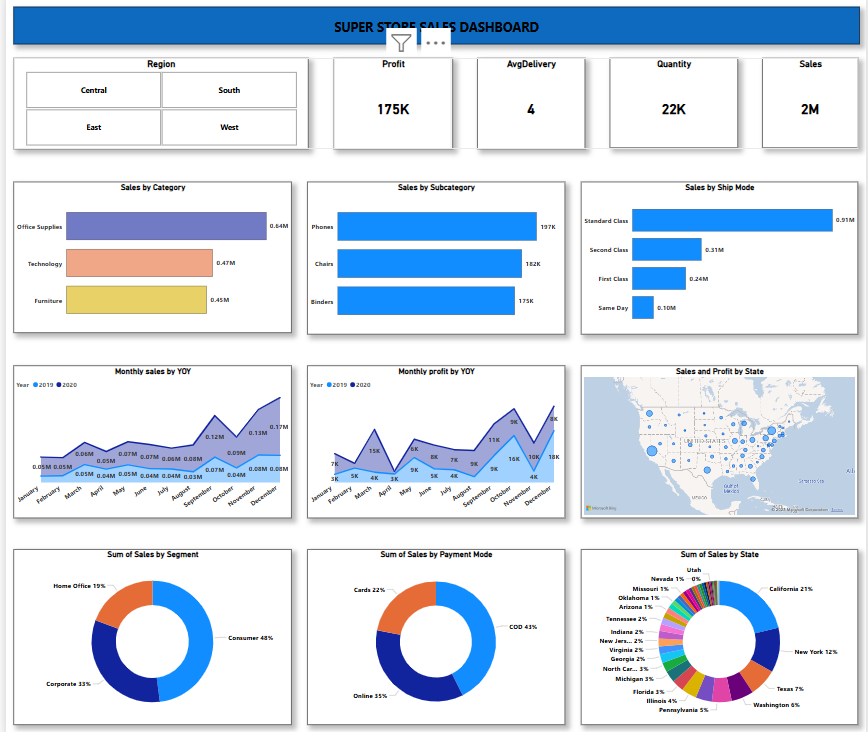

The page's visual inventory and layout, read from the dashboard file:
{"tool":"powerbi","page":{"name":"Sales Insights","canvas":[1800,1560],"ordinal":0},"visuals":[{"type":"textbox","box":[15.2,28.8,1769.6,78.4],"z":0},{"type":"clusteredBarChart","title":"Sales by Category","fields":{"Category":["SuperStore_Sales_Dataset.Category"],"Y":["Sum(SuperStore_Sales_Dataset.Sales)"]},"box":[16.1,394.1,581.8,316.4],"z":0,"group":"g2"},{"type":"group","id":"g1","title":"Group 1","box":[16.8,136.7,1766.3,191.1],"z":1000},{"type":"clusteredBarChart","title":"Sales by Subcategory","fields":{"Y":["Sum(SuperStore_Sales_Dataset.Sales)"],"Category":["SuperStore_Sales_Dataset.Sub-Category"]},"box":[631.4,394.1,538.9,319],"z":1000,"group":"g2"},{"type":"group","id":"g2","title":"Group 2","box":[16.1,394.1,1766.8,319],"z":2000},{"type":"clusteredBarChart","title":"Sales by Ship Mode","fields":{"Y":["Sum(SuperStore_Sales_Dataset.Sales)"],"Category":["SuperStore_Sales_Dataset.Ship Mode"]},"box":[1203.8,394.1,579.1,319],"z":2000,"group":"g2"},{"type":"group","id":"g3","title":"Group 3","box":[16.1,780.2,1766.8,319],"z":3000},{"type":"stackedAreaChart","title":"Monthly sales by YOY","fields":{"Category":["SuperStore_Sales_Dataset.Order Date.Variation.Date Hierarchy.Month","SuperStore_Sales_Dataset.Order Date.Variation.Date Hierarchy.Day"],"Y":["Sum(SuperStore_Sales_Dataset.Sales)"],"Series":["SuperStore_Sales_Dataset.Order Date.Variation.Date Hierarchy.Year"]},"box":[16.1,780.2,581.8,319],"z":3000,"group":"g3"},{"type":"stackedAreaChart","title":"Monthly profit by YOY","fields":{"Category":["SuperStore_Sales_Dataset.Order Date.Variation.Date Hierarchy.Month","SuperStore_Sales_Dataset.Order Date.Variation.Date Hierarchy.Day"],"Series":["SuperStore_Sales_Dataset.Order Date.Variation.Date Hierarchy.Year"],"Y":["Sum(SuperStore_Sales_Dataset.Profit)"]},"box":[631.4,780.2,538.9,319],"z":4000,"group":"g3"},{"type":"group","id":"g4","title":"Group 4","box":[16.1,1163.5,1766.8,367.3],"z":4000},{"type":"map","title":"Sales and Profit by State","fields":{"Category":["SuperStore_Sales_Dataset.State"],"Size":["Sum(SuperStore_Sales_Dataset.Sales)"]},"box":[1203.8,780.2,579.1,319],"z":5000,"group":"g3"},{"type":"donutChart","fields":{"Category":["SuperStore_Sales_Dataset.Segment"],"Y":["Sum(SuperStore_Sales_Dataset.Sales)"]},"box":[16.1,1163.5,581.8,367.3],"z":6000,"group":"g4"},{"type":"donutChart","fields":{"Y":["Sum(SuperStore_Sales_Dataset.Sales)"],"Category":["SuperStore_Sales_Dataset.Payment Mode"]},"box":[631.4,1163.5,538.9,367.3],"z":7000,"group":"g4"},{"type":"slicer","title":"Region","fields":{"Values":["SuperStore_Sales_Dataset.Region"]},"box":[16.8,136.7,616.6,190.3],"z":8000,"group":"g1"},{"type":"card","title":"Sales","fields":{"Values":["Sum(SuperStore_Sales_Dataset.Sales)"]},"box":[1582,137.4,201.1,187.7],"z":10000,"group":"g1"},{"type":"card","title":"Quantity","fields":{"Values":["Sum(SuperStore_Sales_Dataset.Quantity)"]},"box":[1263,137.4,268.1,187.7],"z":11000,"group":"g1"},{"type":"card","title":"Profit","fields":{"Values":["Sum(SuperStore_Sales_Dataset.Profit)"]},"box":[685.7,136.7,249.3,190.3],"z":12000,"group":"g1"},{"type":"card","title":"AvgDelivery","fields":{"Values":["Avg(SuperStore_Sales_Dataset.AvgDelivery)"]},"box":[986.9,137.4,225.2,190.3],"z":13000,"group":"g1"},{"type":"donutChart","fields":{"Y":["Sum(SuperStore_Sales_Dataset.Sales)"],"Category":["SuperStore_Sales_Dataset.State"]},"box":[1203.8,1163.5,579.1,367.3],"z":13002,"group":"g4"}]}

Visuals, with their boxes in screenshot pixels (x1, y1, x2, y2), scaled from the page's 1800x1560 canvas onto the 868x732 screenshot:
textbox: rect(7, 14, 861, 50)
"Sales by Category" clusteredBarChart: rect(8, 185, 288, 333)
"Group 1" group: rect(8, 64, 860, 154)
"Sales by Subcategory" clusteredBarChart: rect(304, 185, 564, 335)
"Group 2" group: rect(8, 185, 860, 335)
"Sales by Ship Mode" clusteredBarChart: rect(580, 185, 860, 335)
"Group 3" group: rect(8, 366, 860, 516)
"Monthly sales by YOY" stackedAreaChart: rect(8, 366, 288, 516)
"Monthly profit by YOY" stackedAreaChart: rect(304, 366, 564, 516)
"Group 4" group: rect(8, 546, 860, 718)
"Sales and Profit by State" map: rect(580, 366, 860, 516)
donutChart - SuperStore_Sales_Dataset.Segment x Sum(SuperStore_Sales_Dataset.Sales): rect(8, 546, 288, 718)
donutChart - Sum(SuperStore_Sales_Dataset.Sales) x SuperStore_Sales_Dataset.Payment Mode: rect(304, 546, 564, 718)
"Region" slicer: rect(8, 64, 305, 153)
"Sales" card: rect(763, 64, 860, 153)
"Quantity" card: rect(609, 64, 738, 153)
"Profit" card: rect(331, 64, 451, 153)
"AvgDelivery" card: rect(476, 64, 585, 154)
donutChart - Sum(SuperStore_Sales_Dataset.Sales) x SuperStore_Sales_Dataset.State: rect(580, 546, 860, 718)
